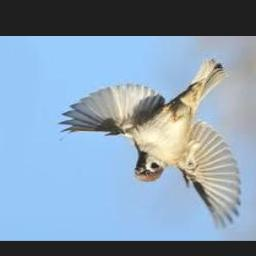Sparrow: (58, 58, 240, 230)
